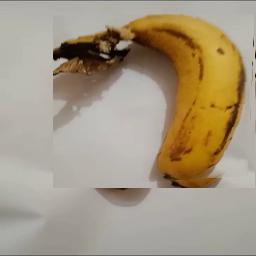Banana Semifresh: (53, 14, 256, 188)
